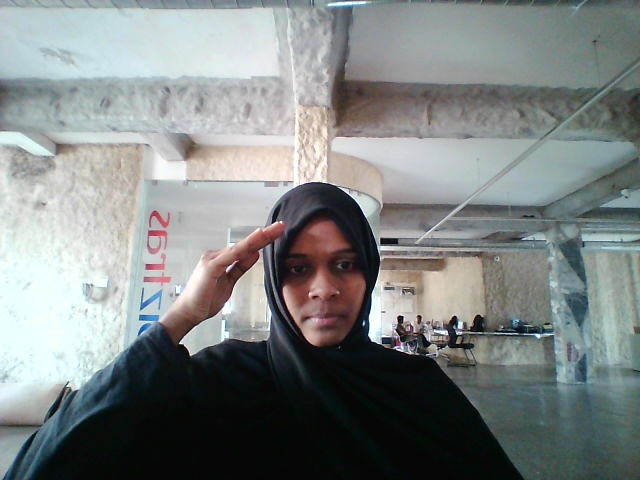HELLO: (169, 211, 288, 370)
